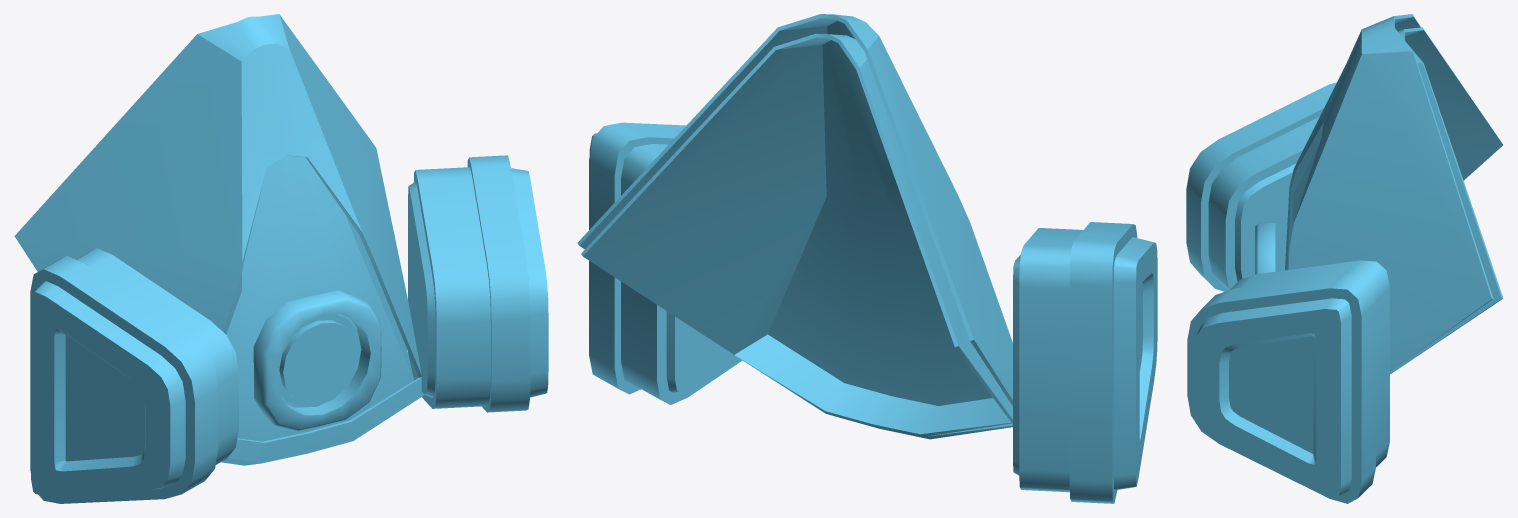
The model's file is maskP95_blockout.FBX.
The picture shows the model from 3 angles, left to right: view 1: azimuth 30°, elevation 25°; view 2: azimuth 150°, elevation 25°; view 3: azimuth 270°, elevation 25°; orthographic projection. The views are drawn at different scales.
Parts seen in each view (by area): view 1: Box003, p95SideFilterLid, p95SideFilter, Box002, side, front, mid; view 2: Box002, p95SideFilterLid, p95SideFilter, Box003; view 3: p95SideFilterLid, Box003, p95SideFilter, Box002, side.
Part boxes in pixels (left/top/right/bottom): Box003: left=14, top=14, right=424, bottom=465; p95SideFilterLid: left=30, top=155, right=548, bottom=503; p95SideFilter: left=76, top=167, right=490, bottom=464; Box002: left=225, top=155, right=413, bottom=441; side: left=253, top=290, right=381, bottom=431; front: left=279, top=320, right=359, bottom=403; mid: left=275, top=314, right=361, bottom=407; Box002: left=581, top=33, right=1012, bottom=436; p95SideFilterLid: left=589, top=122, right=1157, bottom=503; p95SideFilter: left=621, top=144, right=1082, bottom=492; Box003: left=577, top=14, right=1012, bottom=439; p95SideFilterLid: left=1186, top=82, right=1375, bottom=503; Box003: left=1285, top=14, right=1493, bottom=371; p95SideFilter: left=1208, top=117, right=1389, bottom=466; Box002: left=1292, top=27, right=1503, bottom=374; side: left=1255, top=223, right=1275, bottom=274.
Bounding box in the file's own units: 15.63 × 12.28 × 9.31.
